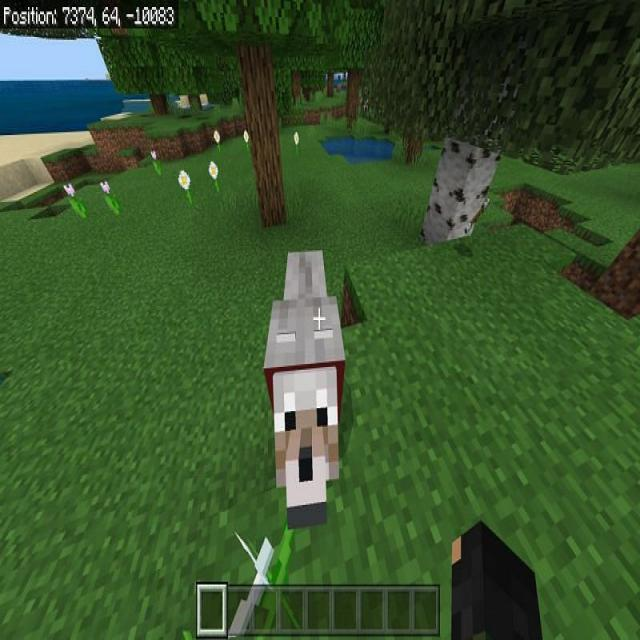Wolf: (262, 248, 347, 528)
